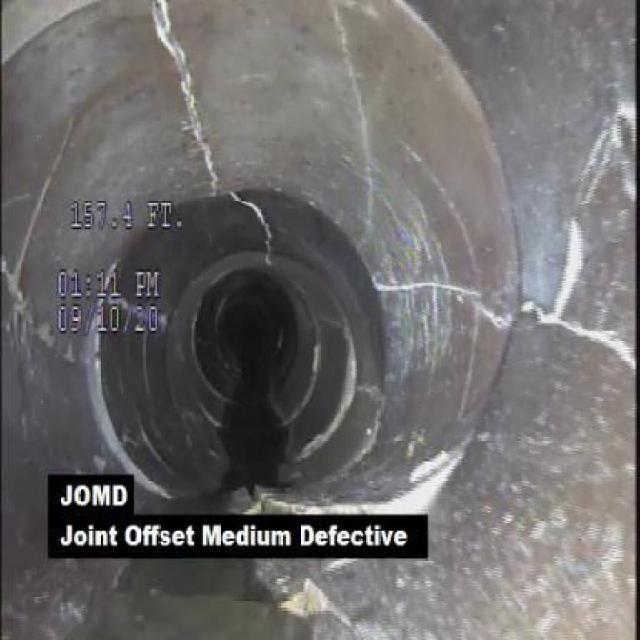Buckling: (229, 446, 469, 639)
Crack: (552, 100, 636, 294), (148, 3, 223, 189), (3, 124, 71, 294), (328, 3, 380, 203), (522, 294, 636, 369), (376, 271, 504, 326)
Joint offset: (88, 314, 143, 477)
